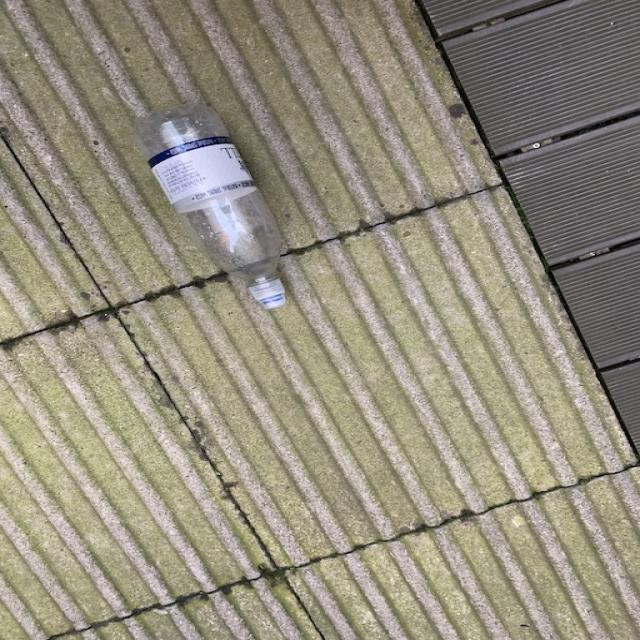Waste: (136, 103, 286, 309)
